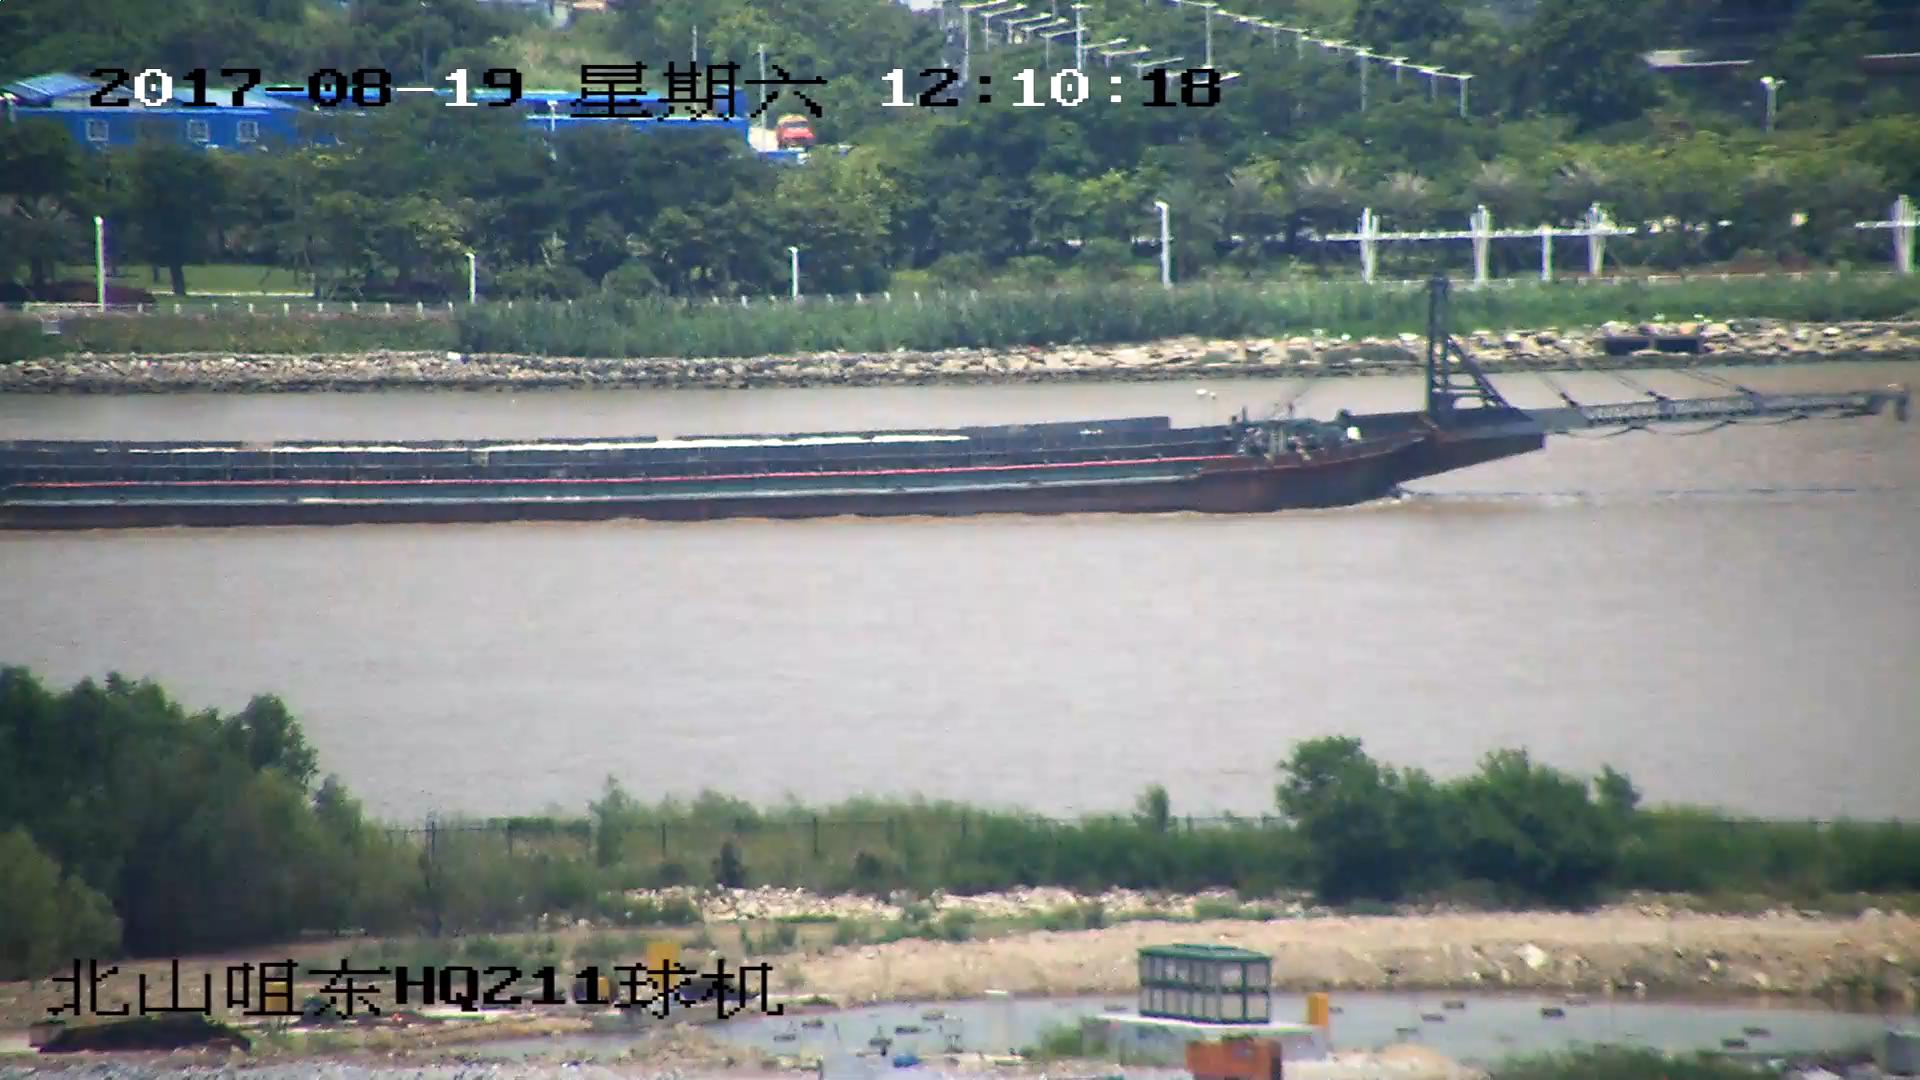bulk cargo carrier: (1, 278, 1903, 533)
